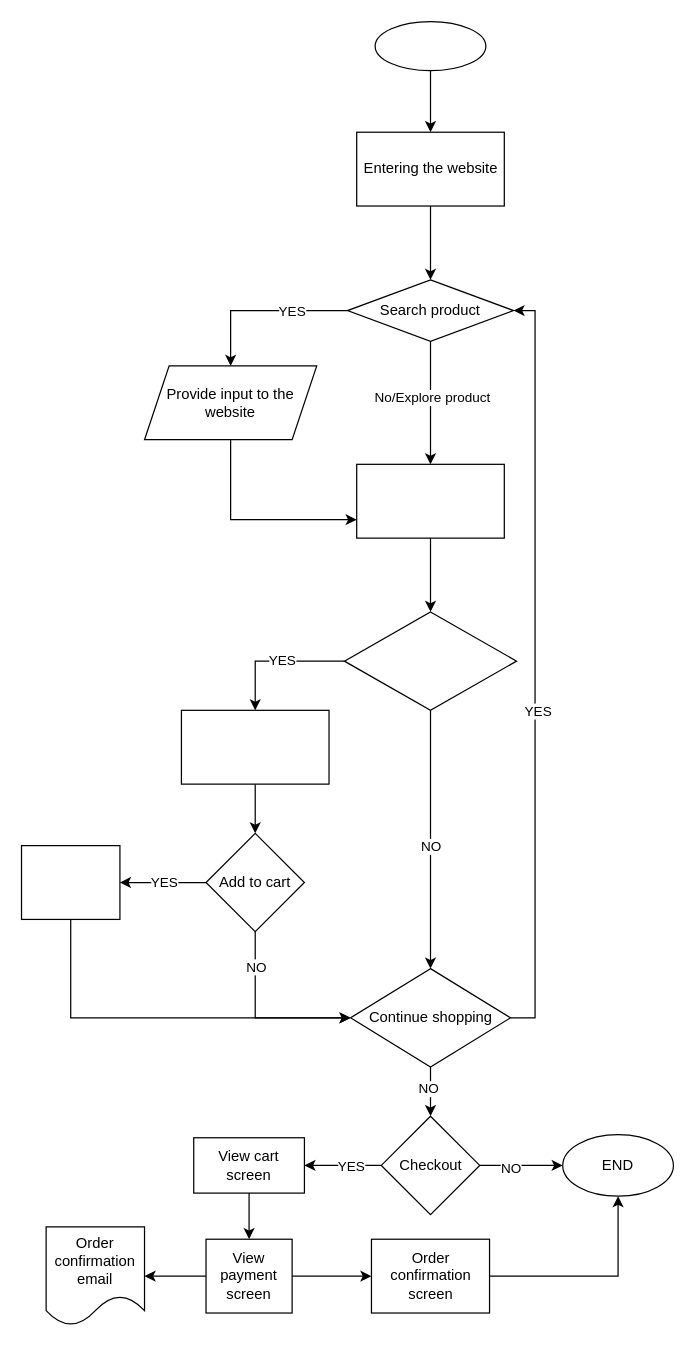
The diagram is 695 pixels wide and 1347 high, and some of its shapes have lost their labels. The centre of each missing label's shape, as x and y in pixels:
Added to cart confirmation: the point at 70,881
Looking over the products: the point at 429,500
Open product's webpage: the point at 254,746
Start: the point at 430,45
Viewing a specific product: the point at 430,660
